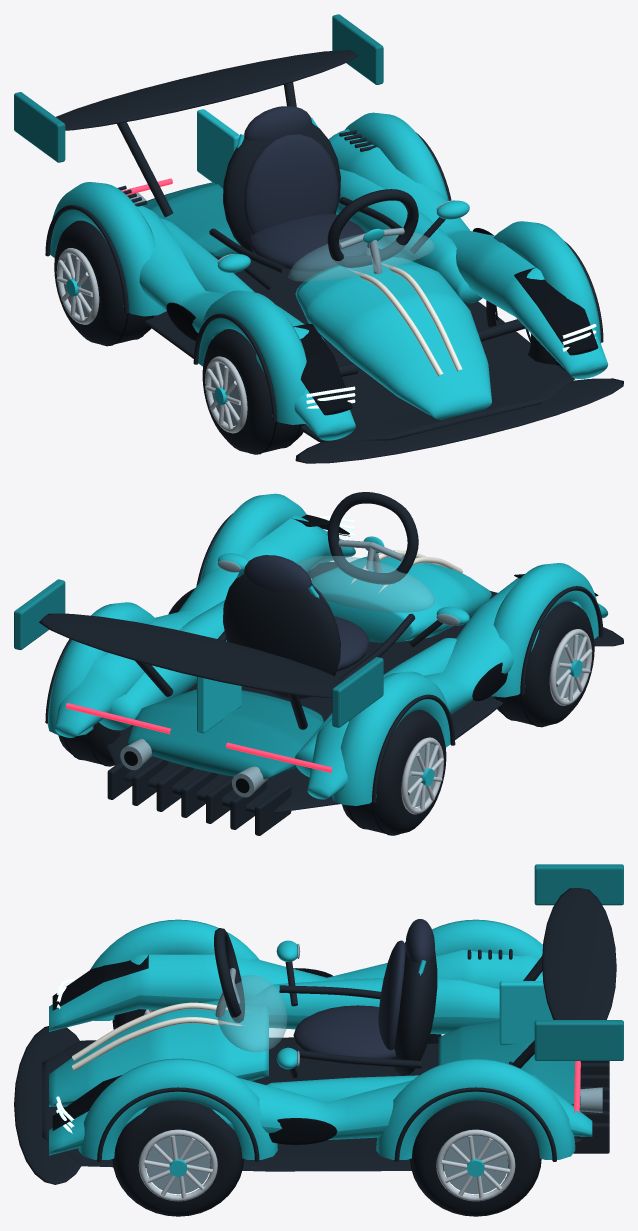
File: prototype.glb
The picture shows the model from 3 angles, top to bottom: view 1: azimuth 30°, elevation 25°; view 2: azimuth 150°, elevation 25°; view 3: azimuth 270°, elevation 25°; orthographic projection.
Parts seen in each view (by area): view 1: Chassis_kart-prototype-paint, Chassis_kart-prototype-carbon, Chassis_kart-prototype-seat, Chassis_kart-prototype-deep-paint, Chassis_kart-prototype-recess, Wheel_FL, Wheel_RL, Chassis, Steering, Wheel_FL_kart-prototype-forged-rim, Wheel_RL_kart-prototype-forged-rim, Chassis_kart-prototype-livery (+2 smaller); view 2: Chassis_kart-prototype-paint, Chassis_kart-prototype-carbon, Chassis_kart-prototype-deep-paint, Wheel_RL, Wheel_FL, Chassis, Chassis_kart-prototype-seat, Steering, Wheel_RL_kart-prototype-forged-rim, Wheel_FL_kart-prototype-forged-rim, Chassis_kart-prototype-titanium, Chassis_kart-prototype-recess (+4 smaller); view 3: Chassis_kart-prototype-paint, Chassis_kart-prototype-carbon, Chassis_kart-prototype-deep-paint, Wheel_RR, Wheel_FR, Chassis_kart-prototype-seat, Chassis_kart-prototype-recess, Chassis, Wheel_RR_kart-prototype-forged-rim, Wheel_FR_kart-prototype-forged-rim, Chassis_kart-prototype-livery, Steering (+1 smaller).
Boxes of the visible parts, box(x1,y1,x2,y2) form: Chassis_kart-prototype-paint: box(50, 109, 608, 440); Chassis_kart-prototype-carbon: box(45, 50, 623, 463); Chassis_kart-prototype-seat: box(244, 106, 367, 272); Chassis_kart-prototype-deep-paint: box(14, 14, 383, 256); Chassis_kart-prototype-recess: box(166, 228, 598, 415); Wheel_FL: box(202, 329, 304, 454); Wheel_RL: box(54, 220, 155, 345); Chassis: box(288, 232, 434, 281); Steering: box(327, 189, 418, 267); Wheel_FL_kart-prototype-forged-rim: box(205, 356, 247, 433); Wheel_RL_kart-prototype-forged-rim: box(56, 248, 99, 324); Chassis_kart-prototype-livery: box(348, 263, 462, 376); Chassis_kart-prototype-paint: box(47, 493, 608, 805); Chassis_kart-prototype-carbon: box(39, 513, 623, 835); Chassis_kart-prototype-deep-paint: box(14, 579, 383, 779); Wheel_RL: box(342, 710, 446, 835); Wheel_FL: box(492, 601, 594, 726); Chassis: box(296, 555, 435, 612); Chassis_kart-prototype-seat: box(244, 555, 369, 671); Steering: box(327, 492, 418, 584); Wheel_RL_kart-prototype-forged-rim: box(401, 737, 443, 814); Wheel_FL_kart-prototype-forged-rim: box(549, 629, 592, 705); Chassis_kart-prototype-titanium: box(120, 550, 459, 797); Chassis_kart-prototype-recess: box(124, 514, 598, 793); Chassis_kart-prototype-paint: box(49, 919, 592, 1159); Chassis_kart-prototype-carbon: box(14, 888, 616, 1184); Chassis_kart-prototype-deep-paint: box(438, 864, 623, 1105); Wheel_RR: box(411, 1100, 540, 1216); Wheel_FR: box(113, 1100, 243, 1216); Chassis_kart-prototype-seat: box(293, 919, 434, 1065); Chassis_kart-prototype-recess: box(52, 955, 337, 1144); Chassis: box(217, 975, 287, 1052); Wheel_RR_kart-prototype-forged-rim: box(436, 1129, 515, 1201); Wheel_FR_kart-prototype-forged-rim: box(138, 1129, 217, 1201); Chassis_kart-prototype-livery: box(72, 1002, 246, 1070); Steering: box(214, 928, 244, 1022).
Bounding box in the file's own units: 3.21 × 1.85 × 4.72.
